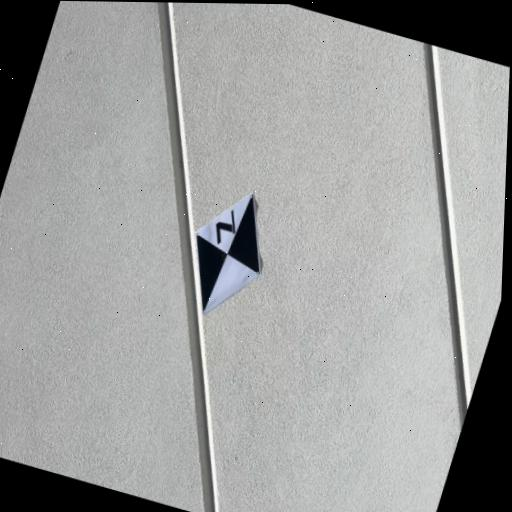target7: (195, 191, 262, 316)
